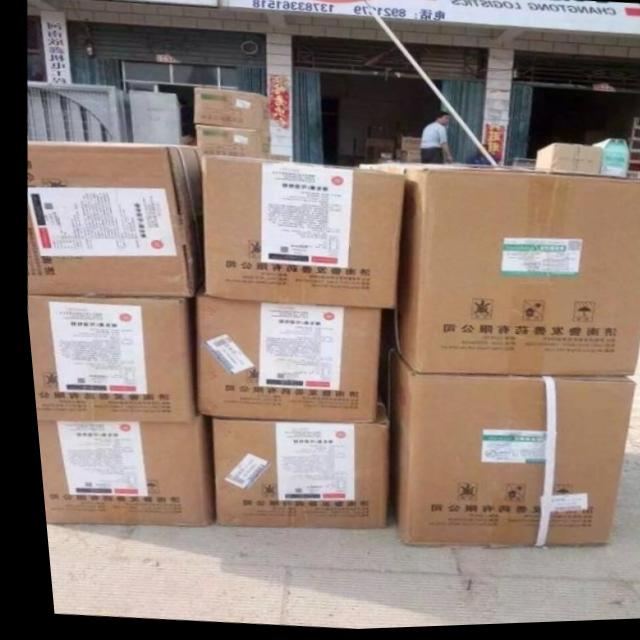box: (354, 166, 640, 379), (368, 345, 628, 549), (199, 156, 401, 311), (23, 140, 199, 298), (187, 284, 376, 422), (205, 397, 382, 529), (22, 295, 190, 423), (29, 410, 207, 527)
